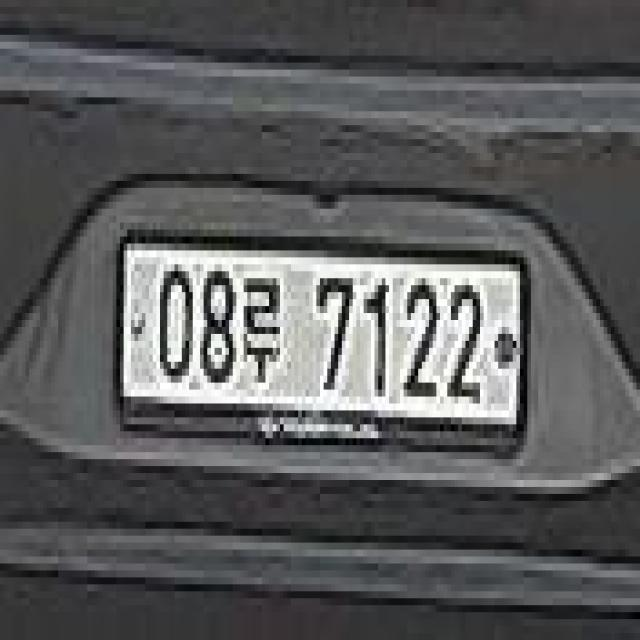illegal_plate: (111, 222, 535, 473)
